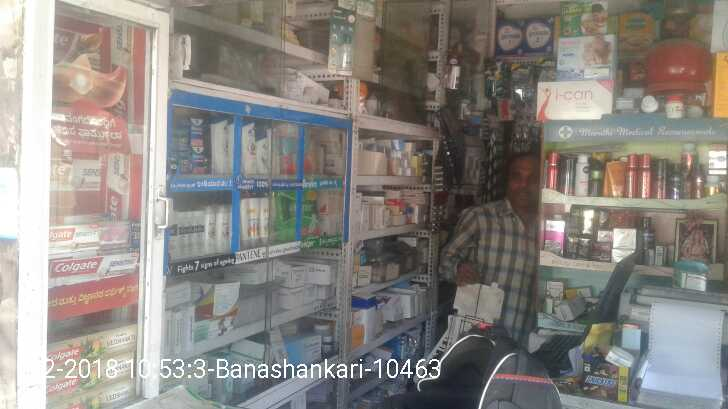beauty: (209, 117, 232, 178), (241, 120, 254, 177), (178, 211, 192, 262), (217, 205, 232, 251), (193, 211, 207, 258), (208, 203, 220, 257), (256, 130, 270, 175), (263, 201, 274, 246)
pharmacy: (278, 120, 322, 178), (272, 190, 318, 242), (188, 140, 204, 161), (191, 118, 207, 137), (192, 159, 207, 178)
